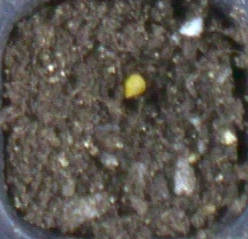chilli seed: (124, 73, 145, 98)
